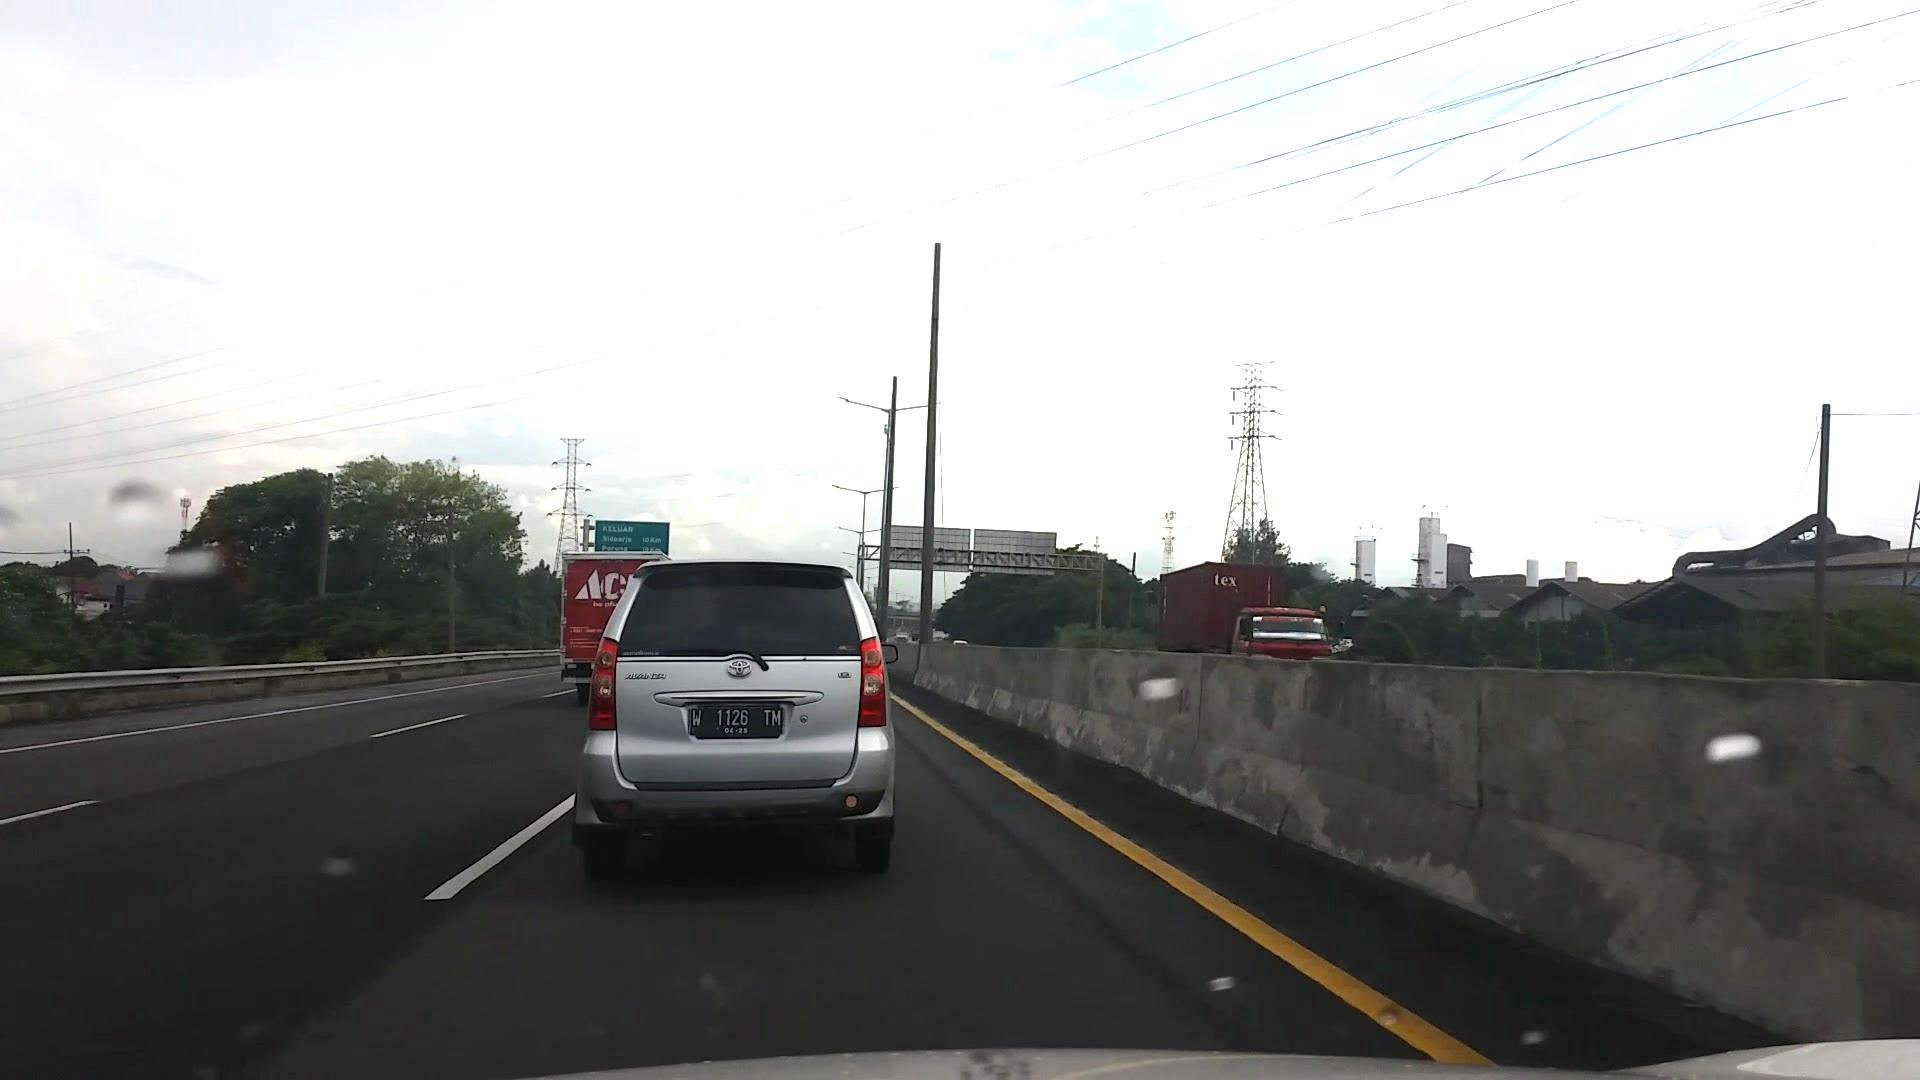plate_positive: (688, 705, 783, 738)
